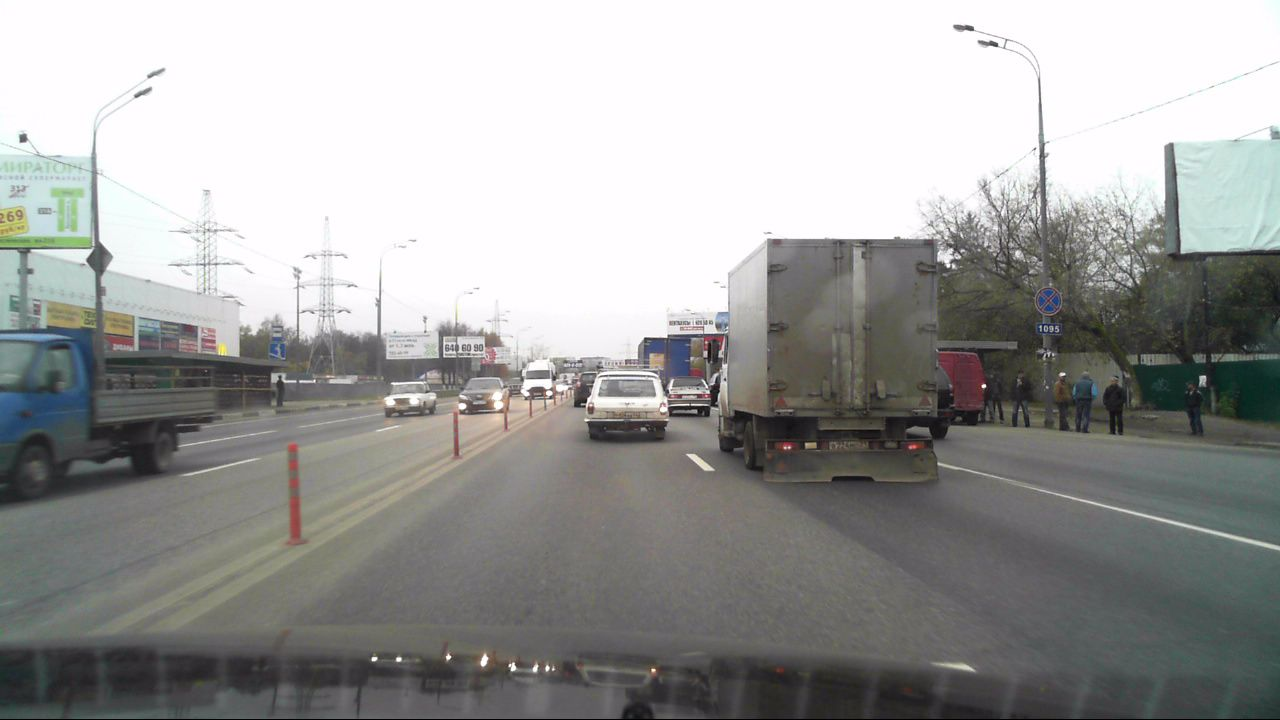No Parking: (1034, 287, 1063, 316)
